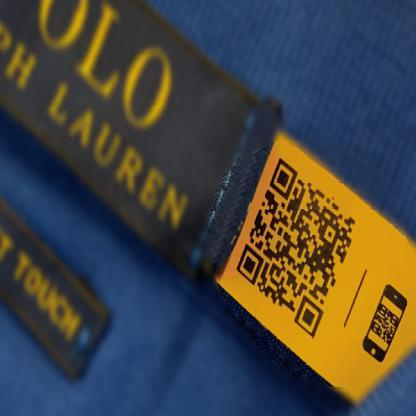qr_code: (236, 158, 356, 338)
